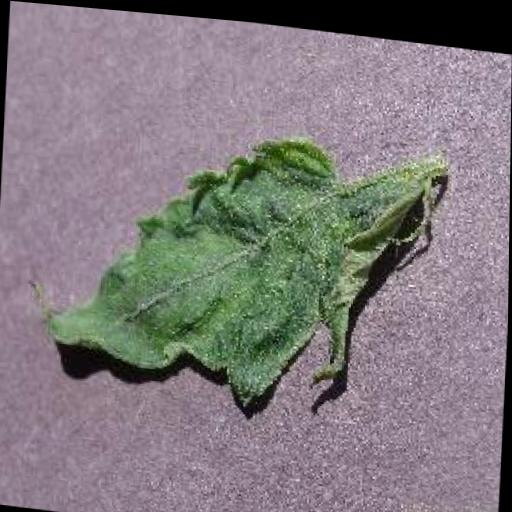Mosaic Virus: (39, 105, 404, 420)
